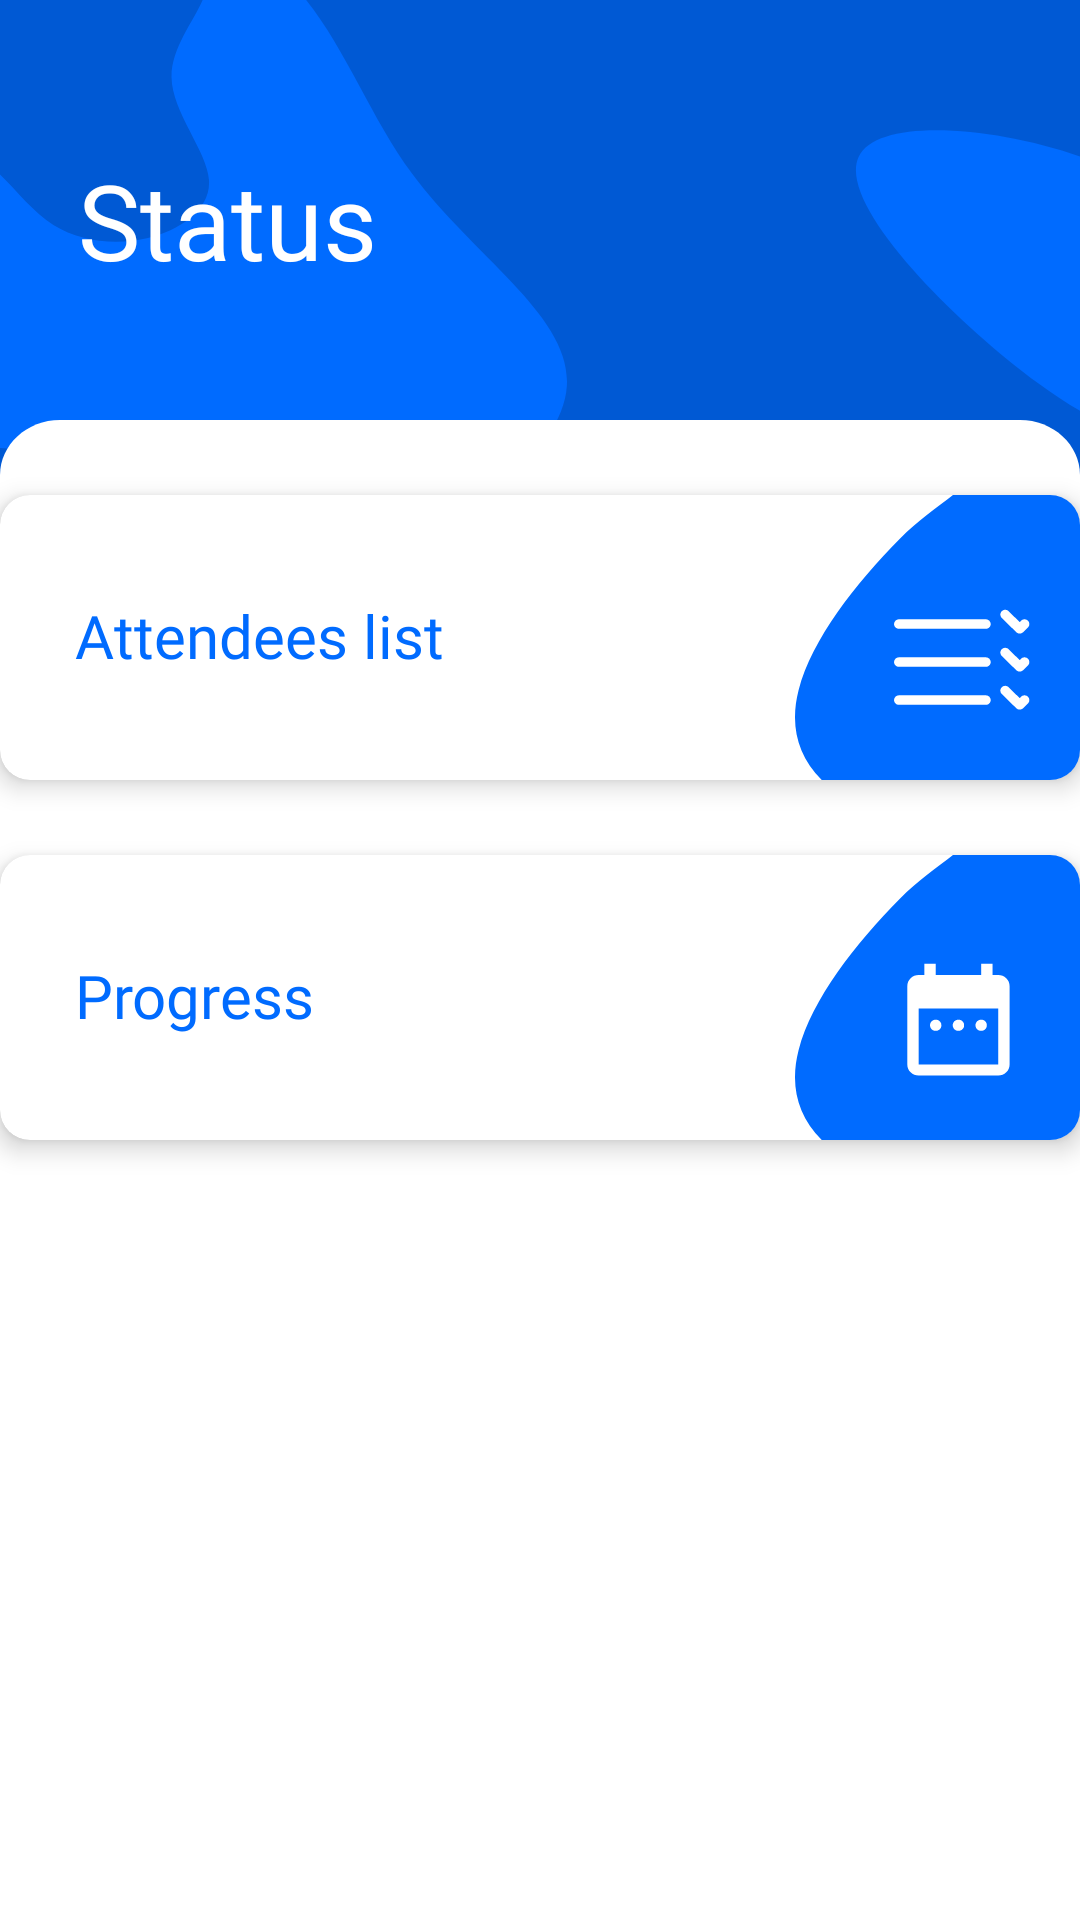

Icon click points for this 1080*1920 phone screenshot, format point (x, y):
list: point (937, 637)
